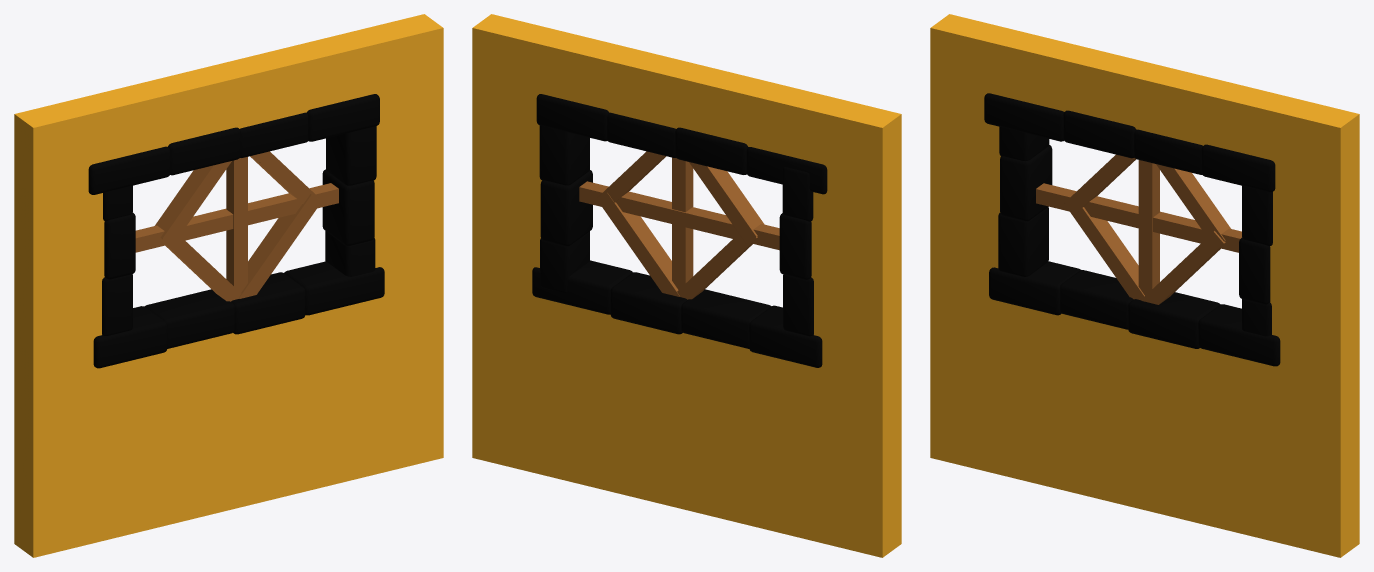
The model's file is Wall 1.fbx.
The picture shows the model from 3 angles, left to right: view 1: azimuth 30°, elevation 25°; view 2: azimuth 150°, elevation 25°; view 3: azimuth 330°, elevation 25°; orthographic projection.
Parts seen in each view (by area): view 1: Wall 1; view 2: Wall 1; view 3: Wall 1.
Boxes of the visible parts, left/top/right/bottom form: Wall 1: left=14, top=14, right=443, bottom=557; Wall 1: left=472, top=14, right=901, bottom=557; Wall 1: left=930, top=14, right=1359, bottom=557.
Bounding box in the file's own units: 249 × 249 × 26.94.
Materials: 1 (1 with a texture image).
